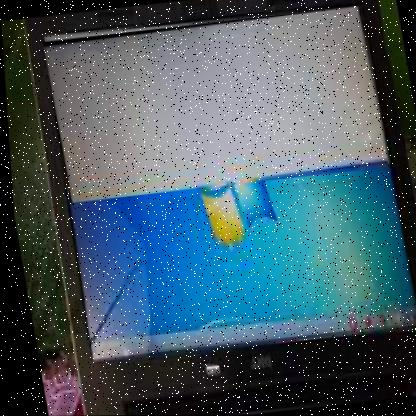fade: (39, 6, 388, 204)
